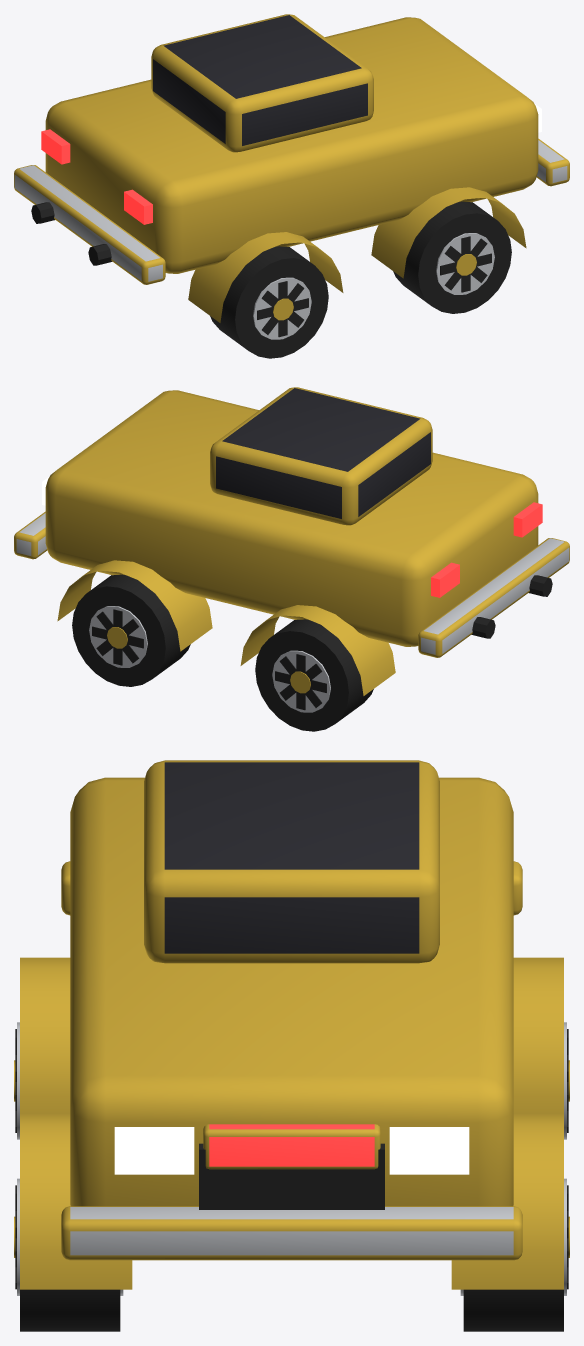
The model's file is drone.glb.
3 renders of one model, top to bottom at view 1: azimuth 30°, elevation 25°; view 2: azimuth 150°, elevation 25°; view 3: azimuth 270°, elevation 25°, orthographic. The views are drawn at different scales.
Visible parts, largest first — view 1: body, wheel_RR, wheel_FR; view 2: body, wheel_RL, wheel_FL; view 3: body, wheel_FL, wheel_FR.
Boxes of the visible parts, <box> form: body: <box>14,14,569,322</box>; wheel_RR: <box>210,246,328,358</box>; wheel_FR: <box>393,201,511,313</box>; body: <box>14,387,569,695</box>; wheel_RL: <box>255,619,373,731</box>; wheel_FL: <box>72,574,190,686</box>; body: <box>20,760,563,1289</box>; wheel_FL: <box>460,1178,569,1331</box>; wheel_FR: <box>14,1178,123,1331</box>.
Bounding box in the file's own units: 3.01 × 1.5 × 1.88.
